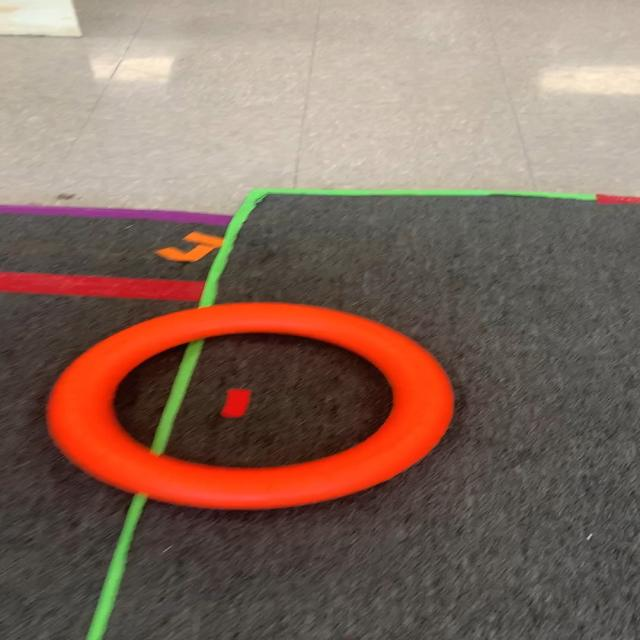notes: (40, 302, 452, 508)
